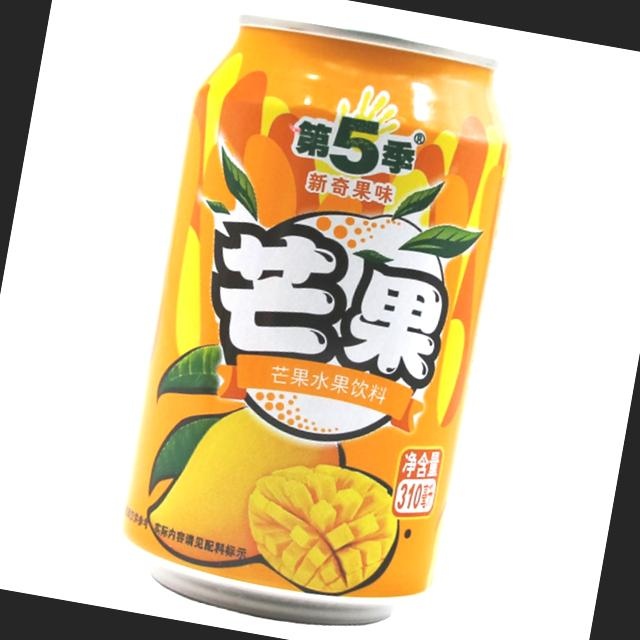can: (97, 0, 537, 640)
